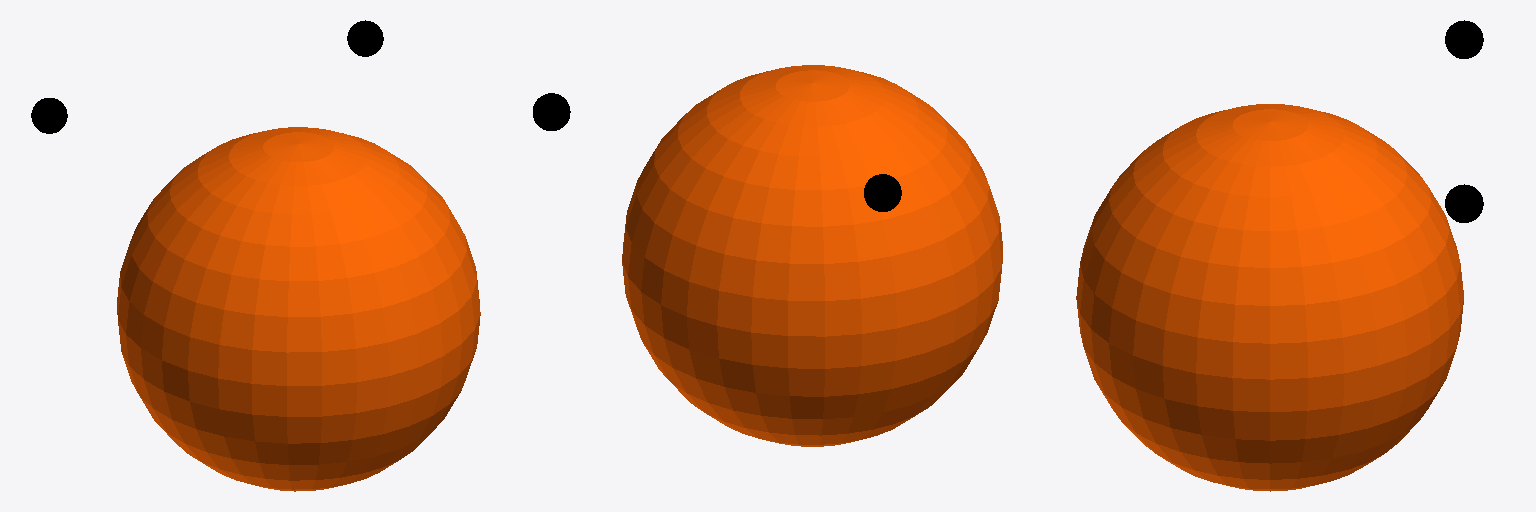
The robot description file, URDF, robot "head":
<?xml version="1.0" ?>
<!-- =================================================================================== -->
<!-- |    This document was autogenerated by xacro from head.xacro                     | -->
<!-- |    EDITING THIS FILE BY HAND IS NOT RECOMMENDED                                 | -->
<!-- =================================================================================== -->
<robot name="head" xmlns:xacro="http://www.ros.org/wiki/xacro">
  <material name="black">
    <color rgba="0.0 0.0 0.0 1.0"/>
  </material>
  <material name="blue">
    <color rgba="0.0 0.0 0.8 1.0"/>
  </material>
  <material name="green">
    <color rgba="0.0 0.8 0.0 1.0"/>
  </material>
  <material name="grey">
    <color rgba="0.2 0.2 0.2 1.0"/>
  </material>
  <material name="orange">
    <color rgba="1.0 0.423529411765 0.0392156862745 1.0"/>
  </material>
  <material name="brown">
    <color rgba="0.870588235294 0.811764705882 0.764705882353 1.0"/>
  </material>
  <material name="red">
    <color rgba="0.8 0.0 0.0 1.0"/>
  </material>
  <material name="white">
    <color rgba="1.0 1.0 1.0 1.0"/>
  </material>
  <!-- ros_control plugin -->
  <gazebo>
    <plugin filename="libgazebo_ros_control.so" name="gazebo_ros_control">
      <robotSimType>gazebo_ros_control/DefaultRobotHWSim</robotSimType>
    </plugin>
  </gazebo>
  <!-- camera_link -->
  <gazebo reference="camera_link">
    <mu1>0.2</mu1>
    <mu2>0.2</mu2>
    <material>Gazebo/Red</material>
  </gazebo>
  <!-- camera -->
  <gazebo reference="right_camera_link">
    <sensor name="right_camera" type="camera">
      <update_rate>30.0</update_rate>
      <camera name="right_camera">
        <horizontal_fov>1.3962634</horizontal_fov>
        <image>
          <width>800</width>
          <height>800</height>
          <format>R8G8B8</format>
        </image>
        <clip>
          <near>0.02</near>
          <far>300</far>
        </clip>
        <noise>
          <type>gaussian</type>
          <mean>0.0</mean>
          <stddev>0.007</stddev>
        </noise>
      </camera>
      <plugin filename="libgazebo_ros_camera.so" name="camera_controller">
        <alwaysOn>true</alwaysOn>
        <updateRate>0.0</updateRate>
        <cameraName>right_camera</cameraName>
        <imageTopicName>image_raw</imageTopicName>
        <cameraInfoTopicName>camera_info</cameraInfoTopicName>
        <frameName>right_camera_link</frameName>
        <hackBaseline>0.07</hackBaseline>
        <distortionK1>0.0</distortionK1>
        <distortionK2>0.0</distortionK2>
        <distortionK3>0.0</distortionK3>
        <distortionT1>0.0</distortionT1>
        <distortionT2>0.0</distortionT2>
      </plugin>
    </sensor>
  </gazebo>
  <!-- camera -->
  <gazebo reference="left_camera_link">
    <sensor name="left_camera" type="camera">
      <update_rate>30.0</update_rate>
      <camera name="left_camera">
        <horizontal_fov>1.3962634</horizontal_fov>
        <image>
          <width>800</width>
          <height>800</height>
          <format>R8G8B8</format>
        </image>
        <clip>
          <near>0.02</near>
          <far>300</far>
        </clip>
        <noise>
          <type>gaussian</type>
          <mean>0.0</mean>
          <stddev>0.007</stddev>
        </noise>
      </camera>
      <plugin filename="libgazebo_ros_camera.so" name="camera_controller">
        <alwaysOn>true</alwaysOn>
        <updateRate>0.0</updateRate>
        <cameraName>left_camera</cameraName>
        <imageTopicName>image_raw</imageTopicName>
        <cameraInfoTopicName>camera_info</cameraInfoTopicName>
        <frameName>left_camera_link</frameName>
        <hackBaseline>0.07</hackBaseline>
        <distortionK1>0.0</distortionK1>
        <distortionK2>0.0</distortionK2>
        <distortionK3>0.0</distortionK3>
        <distortionT1>0.0</distortionT1>
        <distortionT2>0.0</distortionT2>
      </plugin>
    </sensor>
  </gazebo>
  <link name="world"/>
  <link name="base_link">
    <collision>
      <geometry>
        <sphere radius="0.1"/>
      </geometry>
    </collision>
    <visual>
      <geometry>
        <sphere radius="0.1"/>
      </geometry>
      <material name="orange"/>
    </visual>
    <inertial>
      <origin xyz="2 0 0"/>
      <mass value="1.0"/>
      <inertia ixx="1.0" ixy="0.0" ixz="0.0" iyy="100.0" iyz="0.0" izz="1.0"/>
    </inertial>
  </link>
  <joint name="base_joint" type="floating">
    <parent link="world"/>
    <child link="base_link"/>
  </joint>
  <link name="left_eye_link">
    <collision>
      <geometry>
        <sphere radius="0.01"/>
      </geometry>
    </collision>
    <visual>
      <geometry>
        <sphere radius="0.01"/>
      </geometry>
      <material name="black"/>
    </visual>
  </link>
  <link name="right_eye_link">
    <collision>
      <geometry>
        <sphere radius="0.01"/>
      </geometry>
    </collision>
    <visual>
      <geometry>
        <sphere radius="0.01"/>
      </geometry>
      <material name="black"/>
    </visual>
  </link>
  <joint name="right_eye_joint" type="fixed">
    <axis xyz="0 1 0"/>
    <origin rpy="0 0 0" xyz="0.1 0.1 0.1"/>
    <parent link="base_link"/>
    <child link="right_eye_link"/>
  </joint>
  <joint name="left_eye_joint" type="fixed">
    <axis xyz="0 1 0"/>
    <origin rpy="0 0 0" xyz="-0.1 0.1 0.1"/>
    <parent link="base_link"/>
    <child link="left_eye_link"/>
  </joint>
  <link name="left_camera_link">
    <collision>
      <geometry>
        <sphere radius="0.01"/>
      </geometry>
    </collision>
    <visual>
      <geometry>
        <sphere radius="0.01"/>
      </geometry>
      <material name="black"/>
    </visual>
  </link>
  <link name="right_camera_link">
    <collision>
      <geometry>
        <sphere radius="0.01"/>
      </geometry>
    </collision>
    <visual>
      <geometry>
        <sphere radius="0.01"/>
      </geometry>
      <material name="black"/>
    </visual>
  </link>
  <joint name="right_camera_joint" type="fixed">
    <axis xyz="0 1 0"/>
    <origin rpy="0 0 0" xyz="0 0 0"/>
    <parent link="right_eye_link"/>
    <child link="right_camera_link"/>
  </joint>
  <joint name="left_camera_joint" type="fixed">
    <axis xyz="0 1 0"/>
    <origin rpy="0 0 0" xyz="0 0 0"/>
    <parent link="left_eye_link"/>
    <child link="left_camera_link"/>
  </joint>
</robot>

--- What the picture shows (computed from the rendered views, not written in the file) ---
The picture shows the robot from 3 angles, left to right: view 1: azimuth 30°, elevation 25°; view 2: azimuth 150°, elevation 25°; view 3: azimuth 270°, elevation 25°; orthographic projection.
Robot: head — 6 links, 5 joints (4 fixed, 1 floating); root link world; default pose: all joints at 0.
Links seen in each view (by area): view 1: base_link, left_eye_link, right_eye_link; view 2: base_link, left_eye_link, right_eye_link; view 3: base_link, right_eye_link, left_eye_link.
Boxes of the visible links, bbox=[...] form: base_link: bbox=[117, 127, 480, 491]; left_eye_link: bbox=[31, 98, 67, 133]; right_eye_link: bbox=[347, 20, 383, 56]; base_link: bbox=[622, 65, 1002, 446]; left_eye_link: bbox=[864, 174, 901, 211]; right_eye_link: bbox=[533, 93, 570, 130]; base_link: bbox=[1076, 104, 1463, 491]; right_eye_link: bbox=[1445, 184, 1483, 222]; left_eye_link: bbox=[1445, 20, 1483, 58].
Bounding box of the posed robot: 0.22 × 0.21 × 0.21 m (x, y, z).
Geometry: primitives only (box / cylinder / sphere), no mesh files.